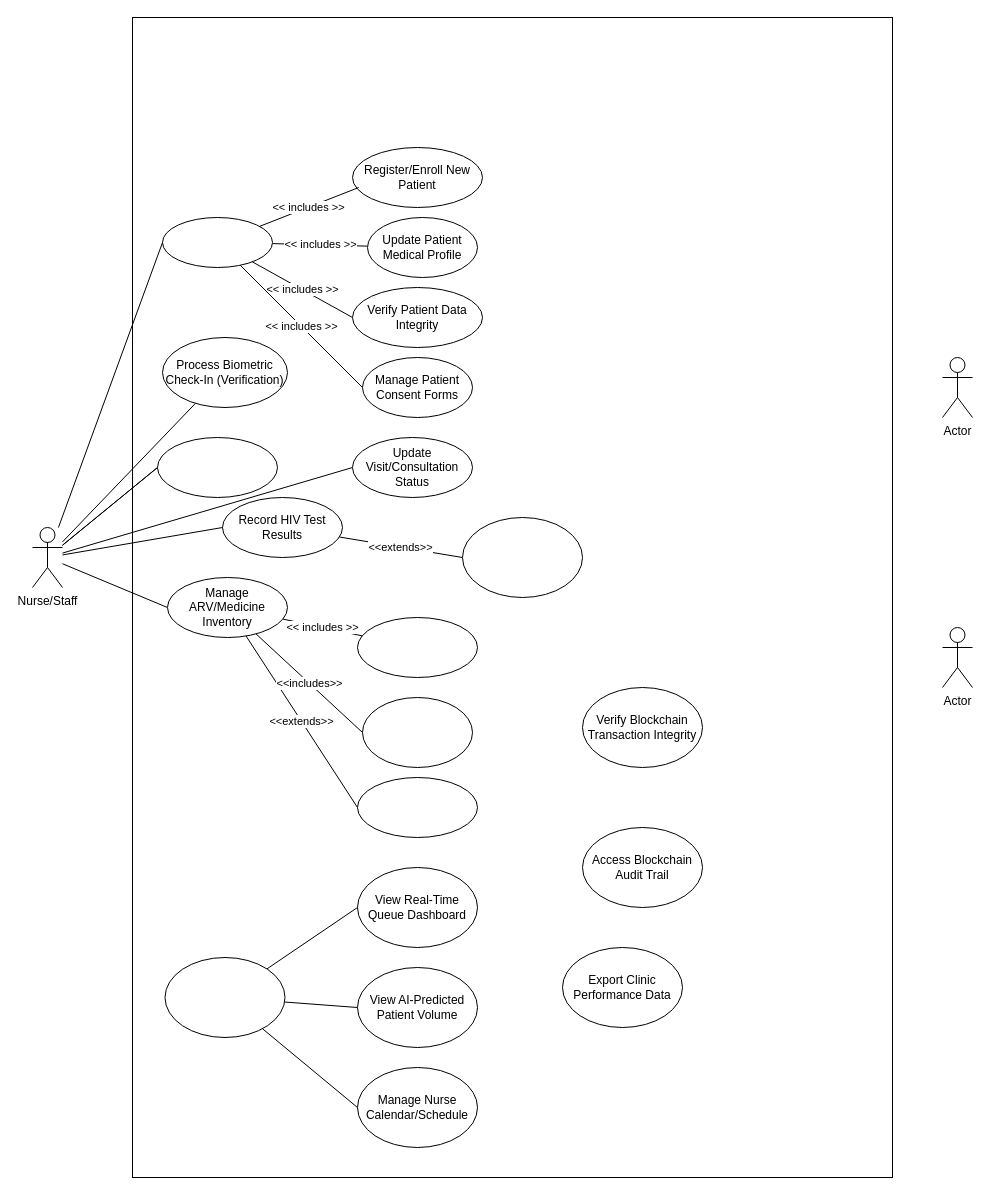
The diagram is 990 pixels wide and 1195 high, and some of its shapes have lost their labels. Each missing label, with the centre of its shape:
Dispense ARV Medications: (417,647)
Document Clinical Notes: (217,467)
Generate Patient Medical Reports: (522,557)
Generate Pharmacy Reports: (417,807)
Patient Management: (217,242)
Queue & Schedule Management: (224,997)
Track Patient Medication Adherence: (417,732)
